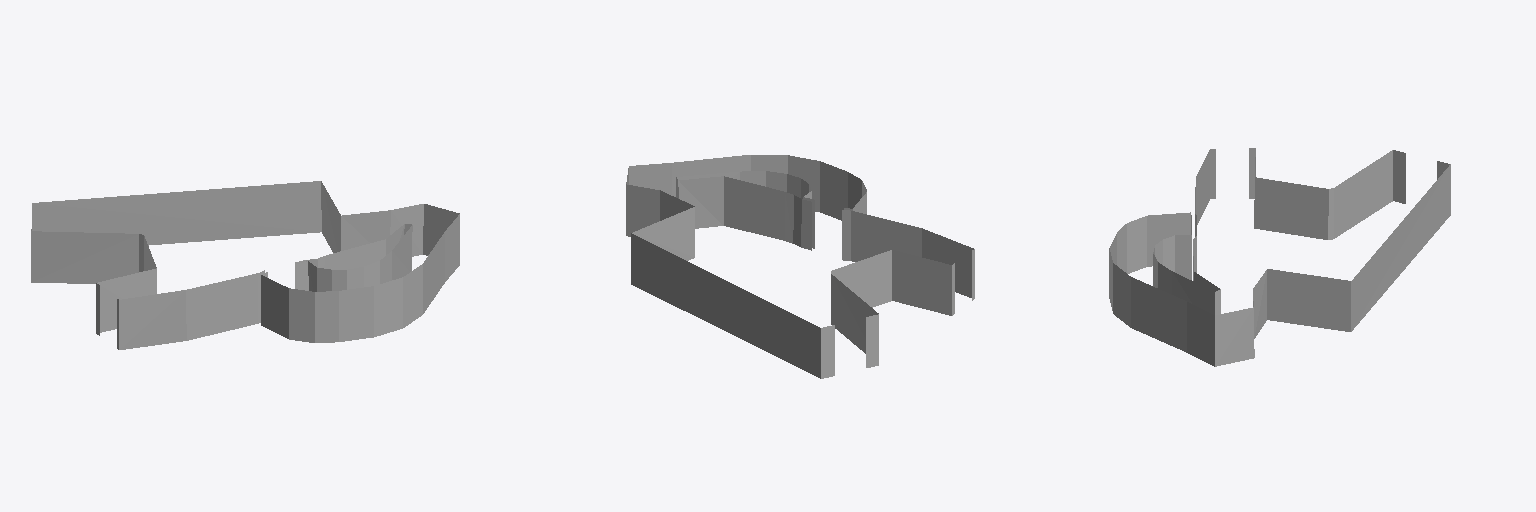
File: Level2 Walls.obj
The picture shows the model from 3 angles: view 1: azimuth 30°, elevation 25°; view 2: azimuth 150°, elevation 25°; view 3: azimuth 270°, elevation 25°; orthographic projection.
Visible parts, largest first — view 1: polySurface10; view 2: polySurface10; view 3: polySurface10.
Part boxes in pixels (x1,y1,x2,y2): polySurface10: (31, 181, 459, 349); polySurface10: (626, 155, 974, 378); polySurface10: (1109, 148, 1450, 366).
Size of the model in its own units: 65.21 by 9.82 by 56.09.